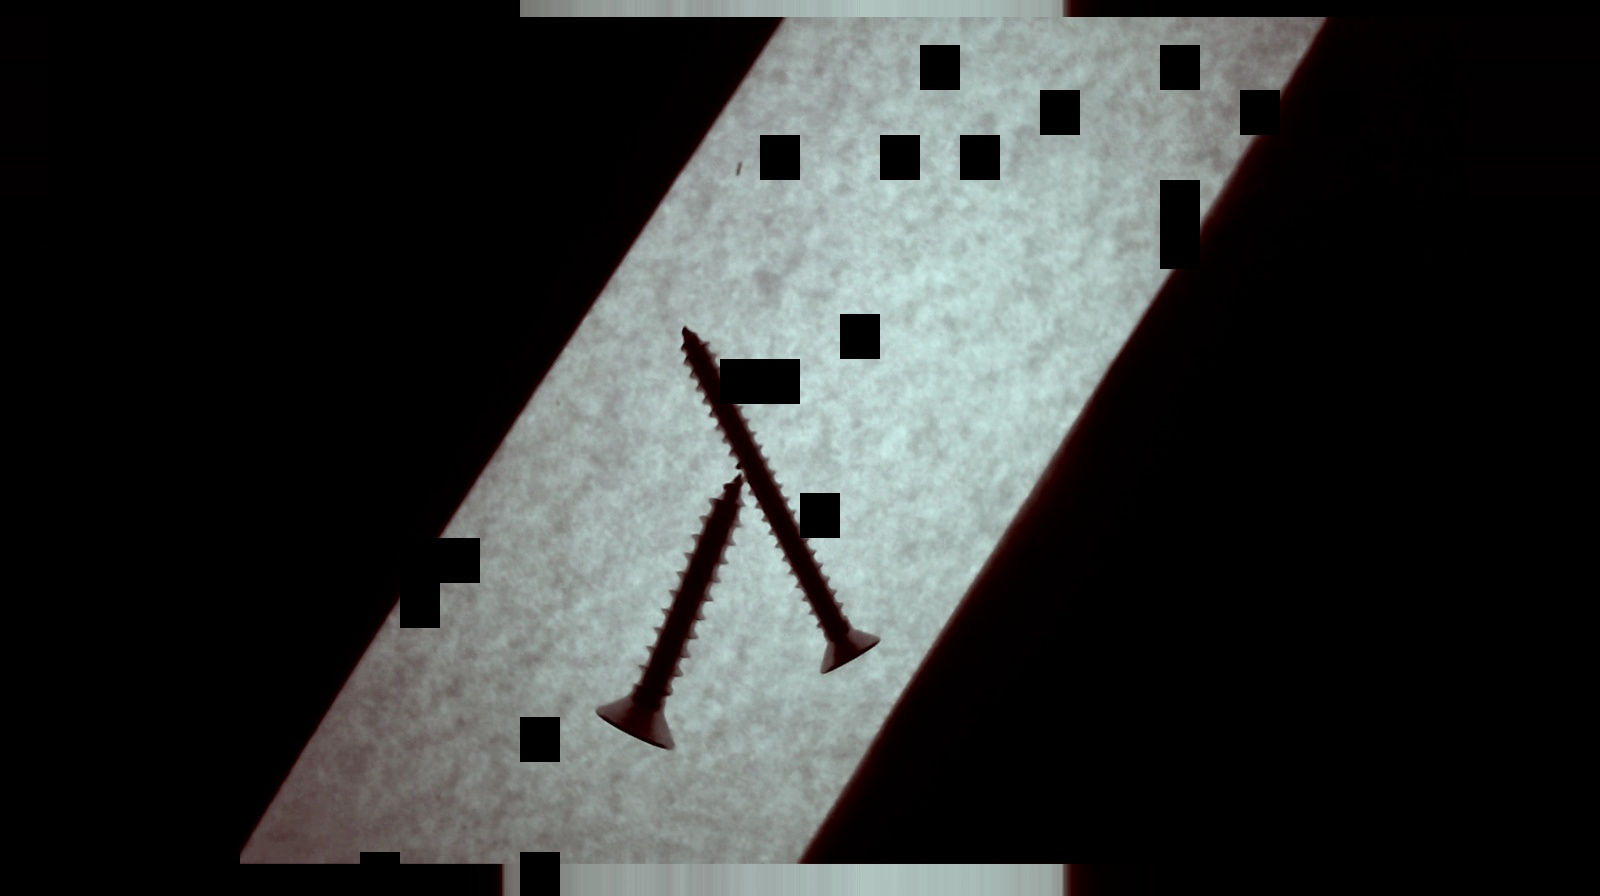S001: (584, 469, 740, 756)
S002: (676, 320, 881, 674)
